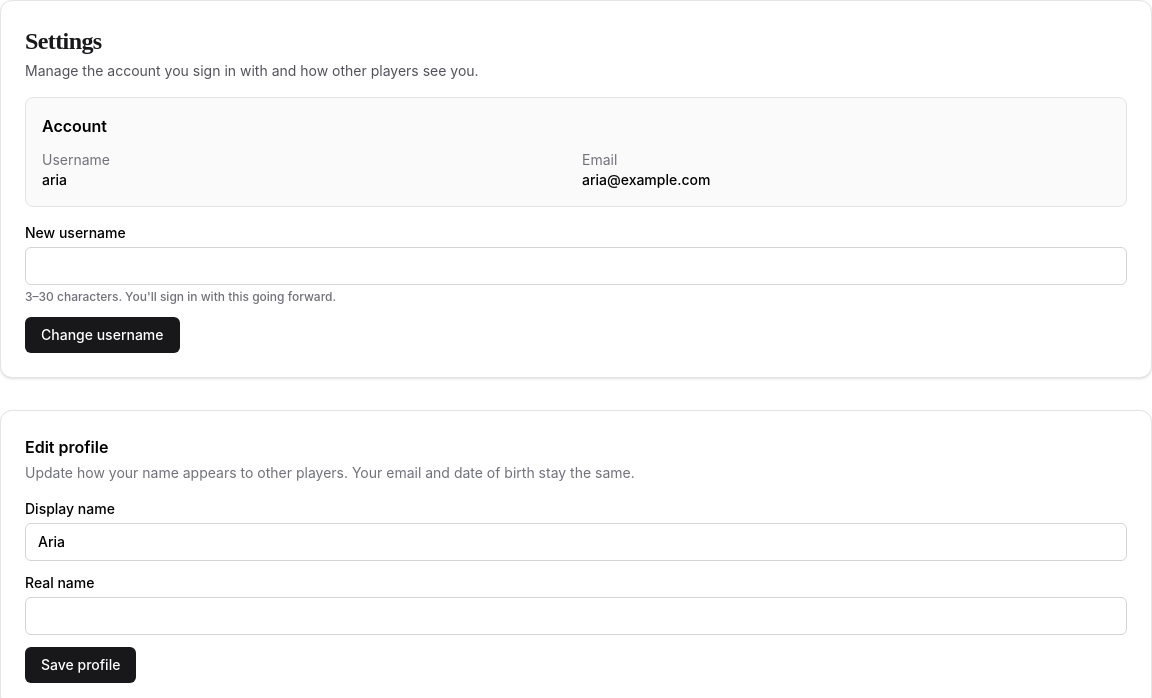
Test: SettingsPage › shows a conflict message when the username is taken
Step 1. Type "taken" into the field labelled "New username" → point(576, 266), box [25,247,1127,285]
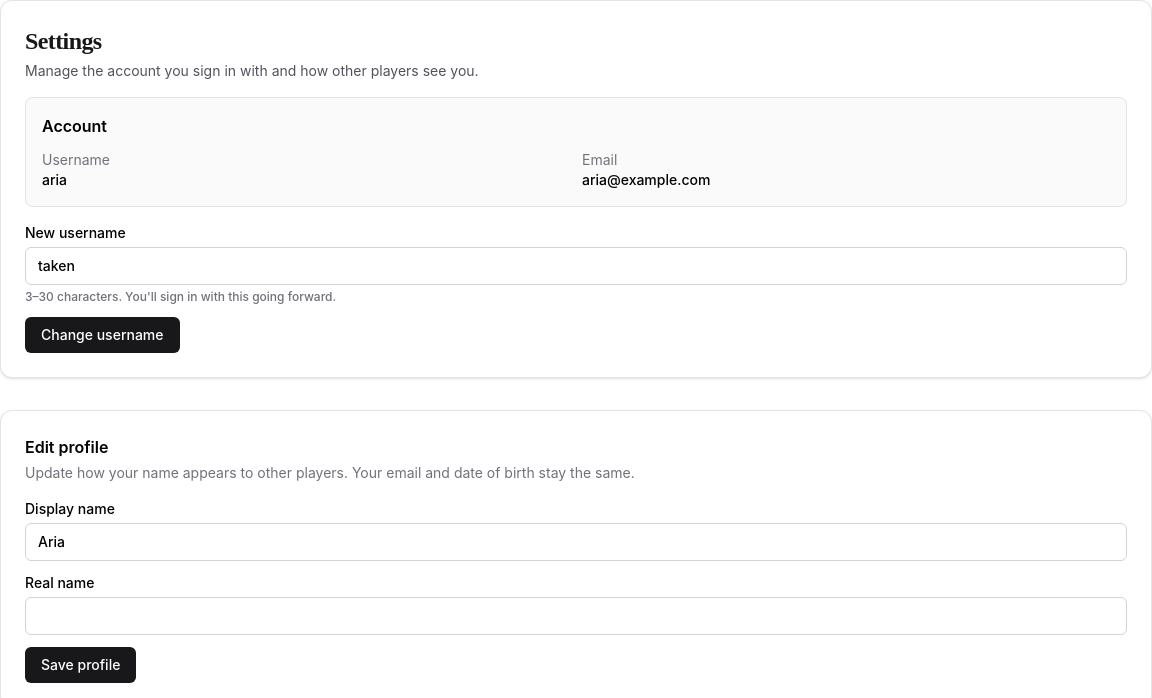
Step 2. Click the button "Change username" → point(102, 335), box [25,317,180,353]
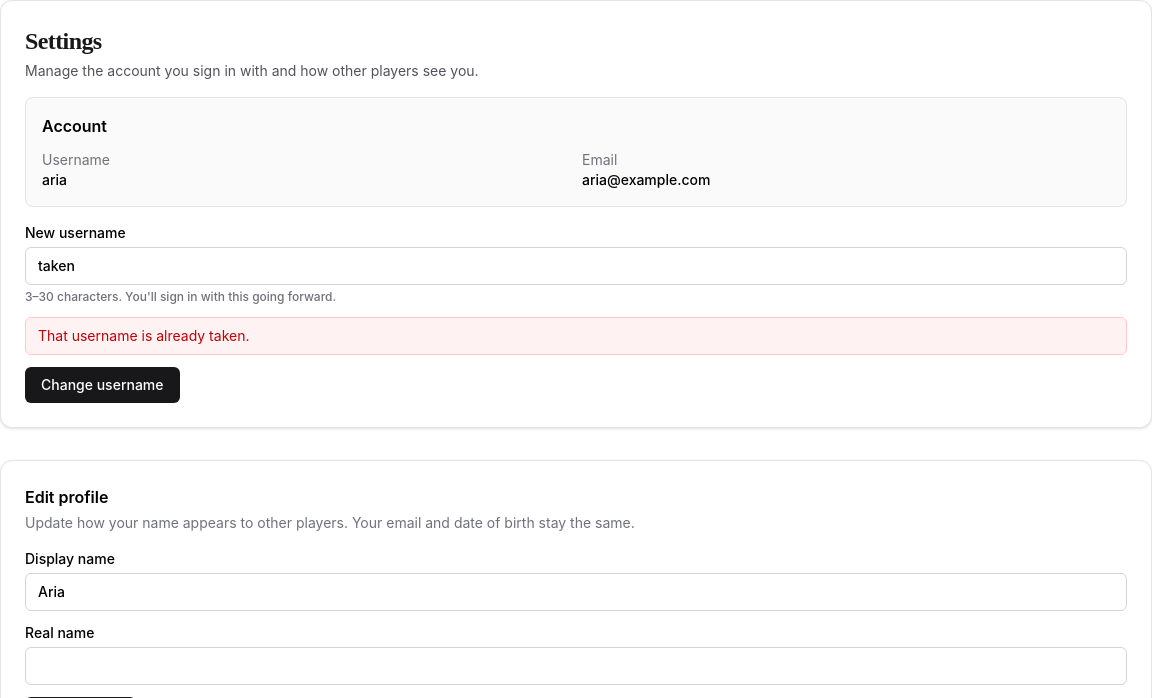
Check: the message shows "already taken", box [38,327,250,344]
